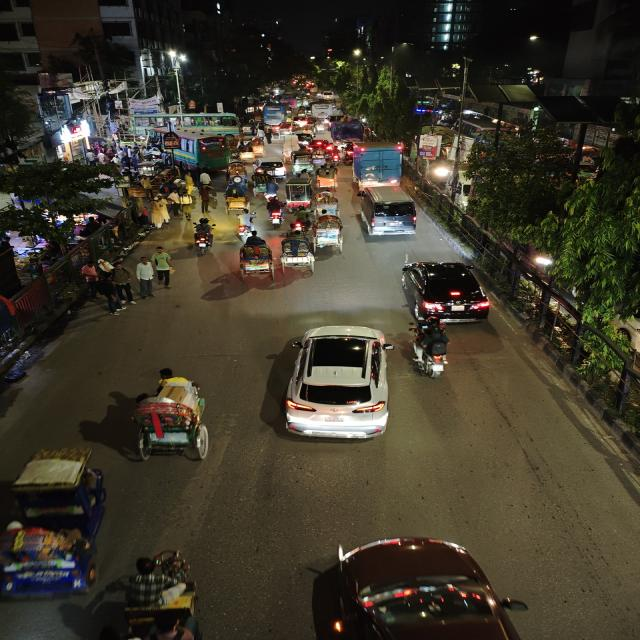bus: (184, 134, 227, 170), (261, 102, 288, 124), (310, 101, 336, 117), (280, 95, 302, 107)
car: (299, 529, 547, 640), (267, 322, 399, 449), (397, 257, 496, 325), (354, 184, 422, 243), (254, 158, 287, 180)
cng: (291, 150, 314, 175)
motorcycle: (406, 319, 458, 383), (187, 219, 218, 257), (264, 196, 286, 228), (234, 210, 258, 238), (290, 207, 310, 235), (338, 144, 352, 166)
pedestrian: (109, 261, 137, 305), (151, 244, 175, 288), (97, 280, 126, 316), (134, 255, 158, 297), (79, 259, 104, 298), (150, 195, 171, 229), (197, 184, 217, 214), (166, 188, 186, 218)
pickup_van: (327, 122, 366, 143)
rickshaw: (0, 439, 122, 603), (110, 363, 221, 468), (102, 544, 222, 640), (235, 236, 277, 280), (279, 234, 317, 276), (310, 212, 346, 255), (222, 185, 252, 217), (285, 177, 312, 212), (234, 138, 267, 161), (251, 173, 279, 200), (315, 164, 340, 191), (316, 191, 340, 217), (224, 160, 249, 180)
truck: (350, 142, 405, 190)
